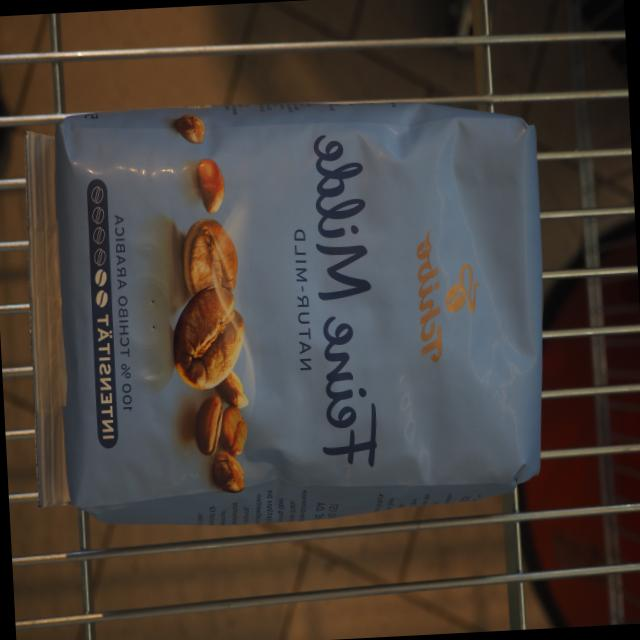FM Bohne: (12, 81, 562, 544)
